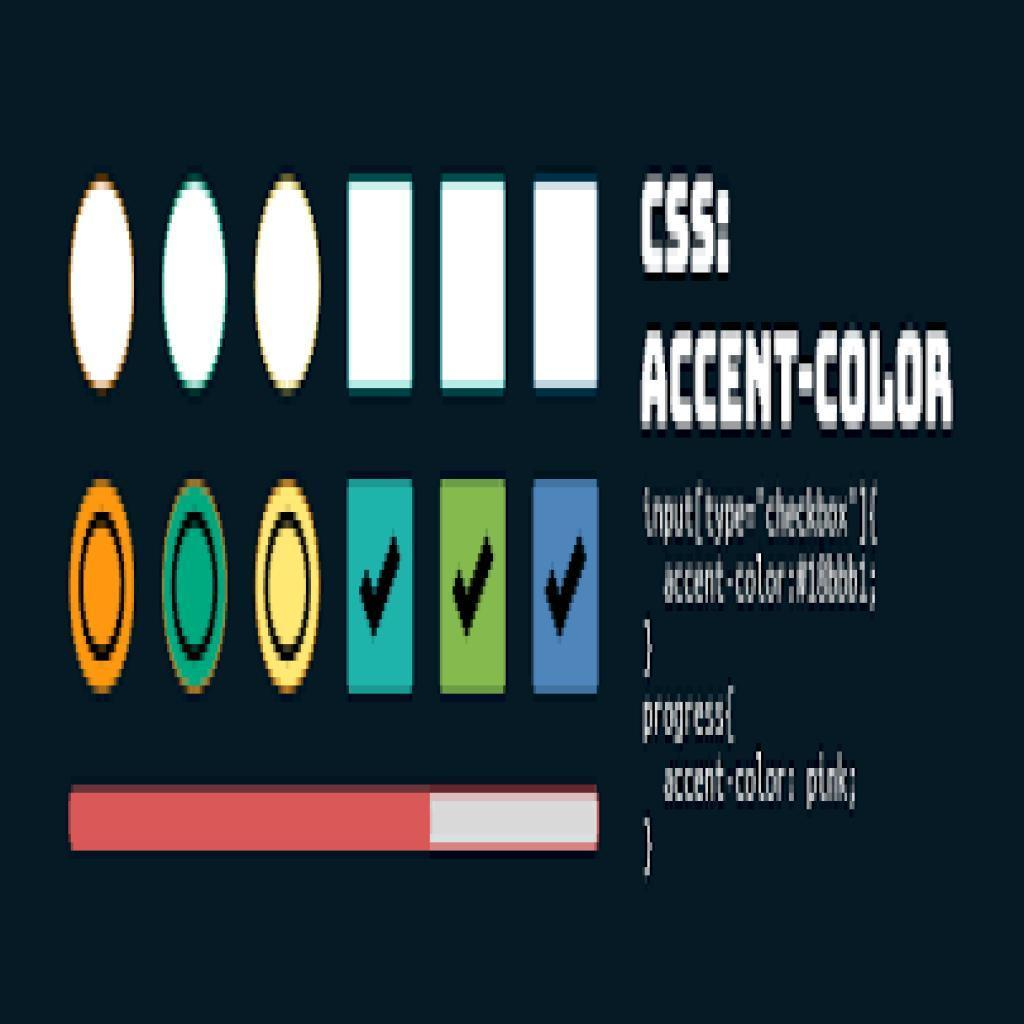checkbox: (437, 180, 507, 389), (346, 178, 413, 392), (349, 480, 415, 696), (531, 184, 599, 393), (532, 482, 598, 697), (441, 483, 505, 693)
radio: (250, 478, 329, 698), (157, 480, 232, 701), (66, 181, 140, 392), (163, 179, 234, 395), (67, 479, 138, 695), (254, 177, 323, 393)
